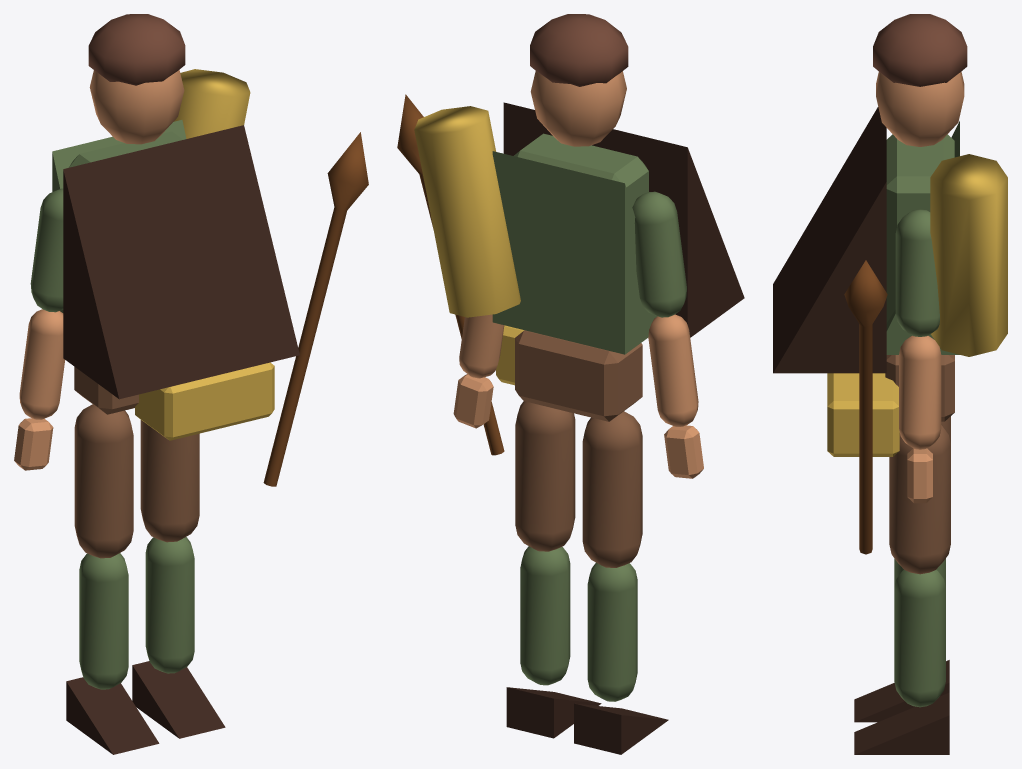
Rendered from adventurer.rustic.glb.
3 renders of one model, left to right at view 1: azimuth 30°, elevation 25°; view 2: azimuth 150°, elevation 25°; view 3: azimuth 270°, elevation 25°, orthographic.
Parts seen in each view (by area): view 1: accessory.body, thigh.left, accessory.waist, shin.right, shin.left, thigh.right, accessory.main-hand, hair, head, foot.left, foot.right, forearm.left (+6 smaller); view 2: tunic, accessory.back, accessory.body, pelvis, thigh.left, thigh.right, shin.right, shin.left, hair, upper-arm.left, head, forearm.left (+8 smaller); view 3: accessory.body, accessory.back, shin.right, thigh.right, hair, accessory.waist, accessory.main-hand, upper-arm.right, torso, head, forearm.right, foot.right (+4 smaller).
Part boxes in pixels (box(x1,y1,x2,y2)): accessory.body: box(63, 125, 299, 399); thigh.left: box(74, 404, 133, 558); accessory.waist: box(135, 362, 274, 440); shin.right: box(145, 537, 194, 673); shin.left: box(79, 553, 128, 689); thigh.right: box(140, 420, 199, 542); accessory.main-hand: box(263, 132, 368, 486); hair: box(88, 14, 185, 85); head: box(89, 70, 184, 144); foot.left: box(66, 677, 159, 754); foot.right: box(132, 661, 225, 738); forearm.left: box(19, 309, 64, 419); tunic: box(492, 151, 657, 354); accessory.back: box(414, 106, 520, 317); accessory.body: box(503, 102, 744, 337); pelvis: box(515, 330, 642, 421); thigh.left: box(582, 411, 642, 567); thigh.right: box(515, 401, 575, 551); shin.right: box(520, 546, 570, 685); shin.left: box(587, 562, 637, 701); hair: box(530, 14, 628, 86); upper-arm.left: box(632, 191, 686, 317); head: box(530, 71, 626, 146); forearm.left: box(648, 314, 698, 426); accessory.body: box(773, 107, 886, 373); accessory.back: box(930, 154, 1007, 356); shin.right: box(894, 569, 945, 707); thigh.right: box(889, 425, 950, 574); hair: box(873, 14, 967, 86); accessory.waist: box(827, 373, 899, 456); accessory.main-hand: box(844, 260, 887, 554); upper-arm.right: box(895, 209, 939, 336); torso: box(886, 134, 954, 322); head: box(876, 71, 964, 146); forearm.right: box(899, 335, 941, 449); foot.right: box(854, 692, 949, 754).
Bounding box in the file's own units: 1.47 × 3.03 × 0.91.
